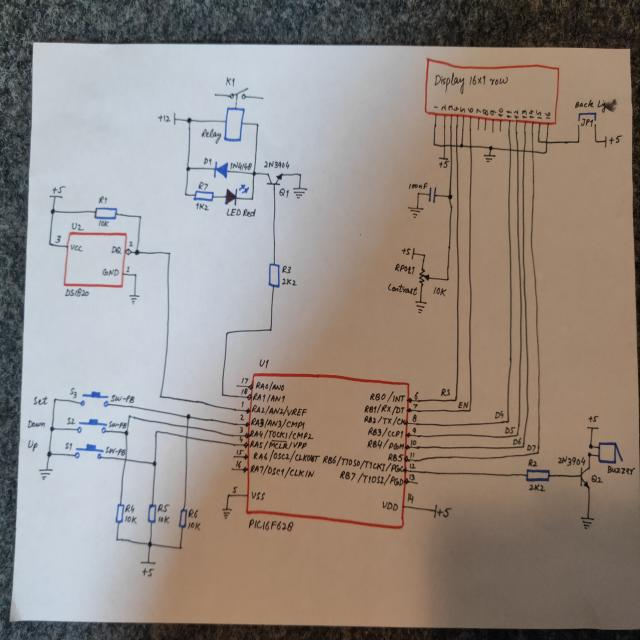capacitor: (427, 186, 437, 204)
crossover: (184, 434, 190, 441), (544, 138, 549, 146), (454, 142, 459, 150), (442, 142, 447, 150), (185, 424, 190, 431), (449, 142, 453, 150), (468, 144, 473, 150), (530, 148, 534, 155), (124, 456, 128, 463), (522, 148, 526, 155), (516, 148, 520, 154), (508, 147, 512, 153)
diode: (224, 184, 249, 207), (213, 161, 229, 180)
ground: (407, 206, 424, 219), (580, 515, 594, 530), (38, 467, 53, 481), (292, 187, 308, 199), (415, 300, 427, 314), (221, 507, 233, 520), (128, 292, 140, 305), (483, 153, 496, 163)
junction: (254, 120, 261, 129), (146, 540, 153, 548), (186, 116, 192, 125), (185, 412, 191, 420), (50, 207, 56, 215), (268, 326, 274, 334), (47, 240, 53, 248), (49, 425, 55, 433), (251, 170, 257, 178), (46, 450, 52, 457), (114, 536, 120, 543), (184, 165, 190, 172), (134, 249, 140, 256), (52, 396, 58, 403), (586, 451, 592, 458), (445, 275, 450, 283), (447, 194, 453, 200), (178, 544, 183, 551), (152, 460, 157, 467), (225, 329, 230, 336), (588, 443, 593, 450), (459, 142, 464, 149), (124, 429, 129, 436), (422, 252, 427, 258), (576, 138, 581, 144), (167, 250, 172, 256), (158, 394, 163, 400), (593, 138, 598, 144), (536, 138, 541, 144), (488, 145, 493, 151), (138, 213, 142, 220), (220, 391, 224, 398), (535, 450, 540, 455), (467, 408, 472, 413), (134, 272, 138, 278), (544, 149, 548, 155), (432, 142, 436, 148), (298, 172, 302, 178), (154, 429, 158, 435), (184, 191, 188, 197), (226, 492, 230, 498), (128, 413, 132, 419), (453, 397, 457, 403), (250, 196, 254, 201), (521, 444, 525, 449), (515, 432, 519, 437), (506, 419, 510, 424), (416, 192, 420, 196)
resistor: (267, 262, 281, 288), (525, 468, 550, 482), (94, 207, 118, 220), (193, 190, 214, 202), (418, 268, 430, 286), (114, 503, 124, 524), (178, 508, 188, 528), (147, 504, 157, 524)
switch: (74, 442, 104, 460), (80, 390, 110, 408), (76, 418, 108, 434), (577, 112, 597, 130)
terminal: (139, 559, 157, 566), (433, 503, 438, 519), (49, 194, 63, 199), (173, 112, 177, 126), (586, 426, 600, 430), (411, 247, 415, 260), (604, 134, 607, 148), (438, 156, 448, 160)
text: (434, 71, 508, 95), (322, 454, 404, 472), (339, 469, 404, 486), (252, 449, 320, 464), (250, 464, 315, 478), (250, 428, 314, 441), (247, 517, 294, 534), (250, 416, 306, 430), (251, 404, 308, 417), (250, 439, 308, 450), (574, 98, 616, 113), (364, 403, 405, 416), (366, 438, 404, 451), (369, 390, 406, 403), (367, 426, 404, 439), (363, 415, 405, 426), (387, 283, 418, 296), (226, 206, 258, 218), (252, 392, 286, 403), (255, 380, 285, 392), (606, 464, 636, 476), (200, 128, 222, 144), (558, 454, 586, 466), (64, 288, 90, 298), (394, 263, 415, 275), (111, 394, 135, 404), (381, 499, 398, 513), (264, 160, 289, 169), (230, 162, 252, 172), (102, 266, 120, 278), (105, 446, 126, 456), (32, 394, 47, 406), (437, 506, 452, 518), (27, 420, 45, 430), (281, 276, 297, 287), (108, 420, 127, 429), (387, 452, 404, 462), (251, 490, 266, 501), (432, 286, 447, 297), (528, 483, 546, 492), (408, 182, 428, 190), (141, 566, 154, 578), (609, 134, 623, 145), (27, 439, 38, 452), (187, 521, 201, 531), (52, 184, 66, 194), (580, 118, 594, 128), (196, 202, 210, 212), (124, 515, 138, 525), (157, 114, 172, 123), (225, 76, 236, 88), (187, 508, 199, 519), (157, 503, 170, 513), (157, 514, 170, 524), (70, 243, 84, 252), (71, 222, 85, 231), (281, 264, 292, 275), (124, 503, 135, 514), (111, 245, 123, 255), (259, 358, 269, 370), (591, 474, 604, 483), (278, 188, 289, 198), (527, 458, 538, 468), (504, 426, 516, 435), (494, 410, 504, 420), (198, 181, 208, 191), (66, 416, 76, 426), (438, 160, 449, 169), (70, 387, 78, 399), (98, 220, 110, 228), (64, 441, 73, 451), (526, 443, 536, 452), (458, 400, 468, 409), (401, 247, 411, 256), (440, 388, 450, 397), (588, 414, 599, 422), (407, 492, 414, 504), (512, 437, 522, 445), (544, 110, 552, 120), (98, 196, 108, 204), (528, 109, 535, 120), (536, 108, 542, 120), (241, 376, 249, 384), (204, 158, 212, 166), (54, 235, 61, 244), (513, 110, 519, 120), (235, 460, 242, 468), (241, 388, 248, 396), (409, 438, 416, 446), (482, 108, 489, 116), (498, 107, 503, 118), (411, 413, 417, 422), (413, 391, 419, 400), (506, 110, 512, 119), (521, 110, 527, 119), (409, 462, 416, 469), (467, 106, 474, 113), (232, 486, 238, 494), (236, 449, 244, 455), (409, 473, 415, 481), (460, 106, 466, 113), (489, 110, 496, 116), (240, 414, 245, 422), (441, 104, 446, 112), (409, 452, 415, 458), (433, 104, 439, 110), (453, 106, 459, 112), (476, 108, 482, 114), (126, 266, 131, 273), (129, 241, 134, 248), (448, 105, 453, 112), (239, 436, 243, 444), (239, 426, 243, 434), (412, 426, 416, 434), (413, 403, 418, 409), (240, 401, 244, 408)
transistor: (579, 466, 591, 489), (265, 172, 284, 186)
